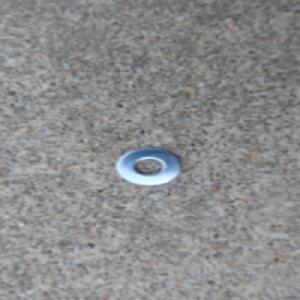Washer: (111, 145, 185, 188)
